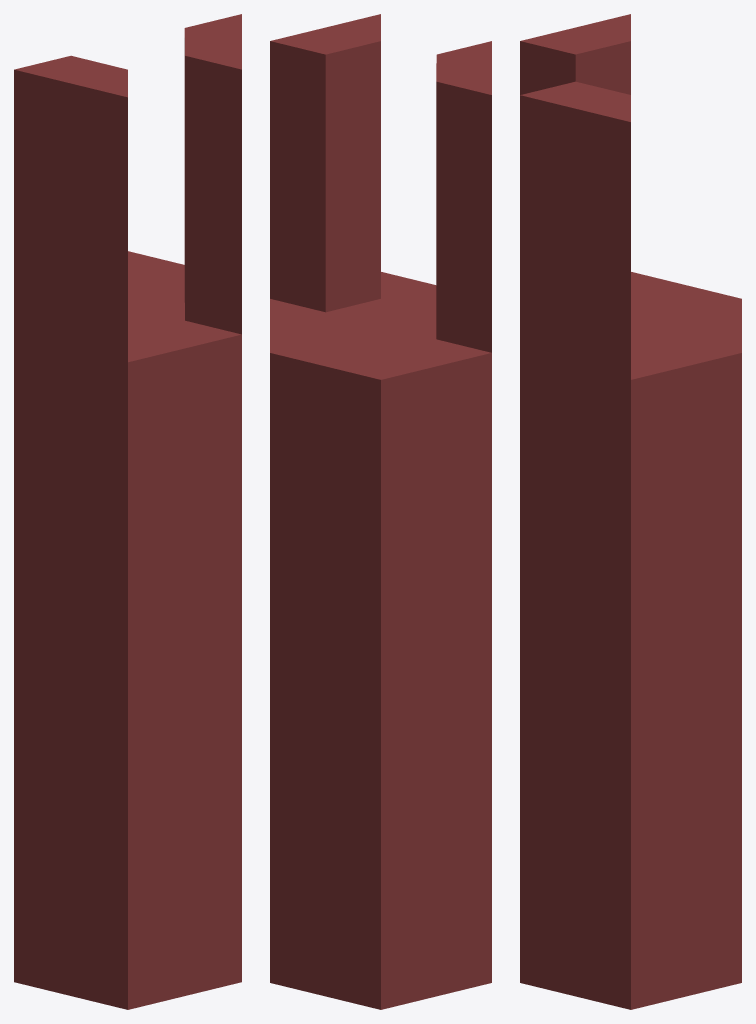
The model's file is Hex_Tall_1.fbx.
The picture shows the model from 3 angles, left to right: view 1: azimuth 30°, elevation 25°; view 2: azimuth 150°, elevation 25°; view 3: azimuth 270°, elevation 25°; orthographic projection. The views are drawn at different scales.
Parts seen in each view (by area): view 1: TileHex1; view 2: TileHex1; view 3: TileHex1.
Part boxes in pixels (left/top/right/bottom): TileHex1: left=14, top=14, right=241, bottom=1009; TileHex1: left=270, top=14, right=491, bottom=1009; TileHex1: left=520, top=14, right=741, bottom=1009.
Bounding box in the file's own units: 118 × 450 × 102.
